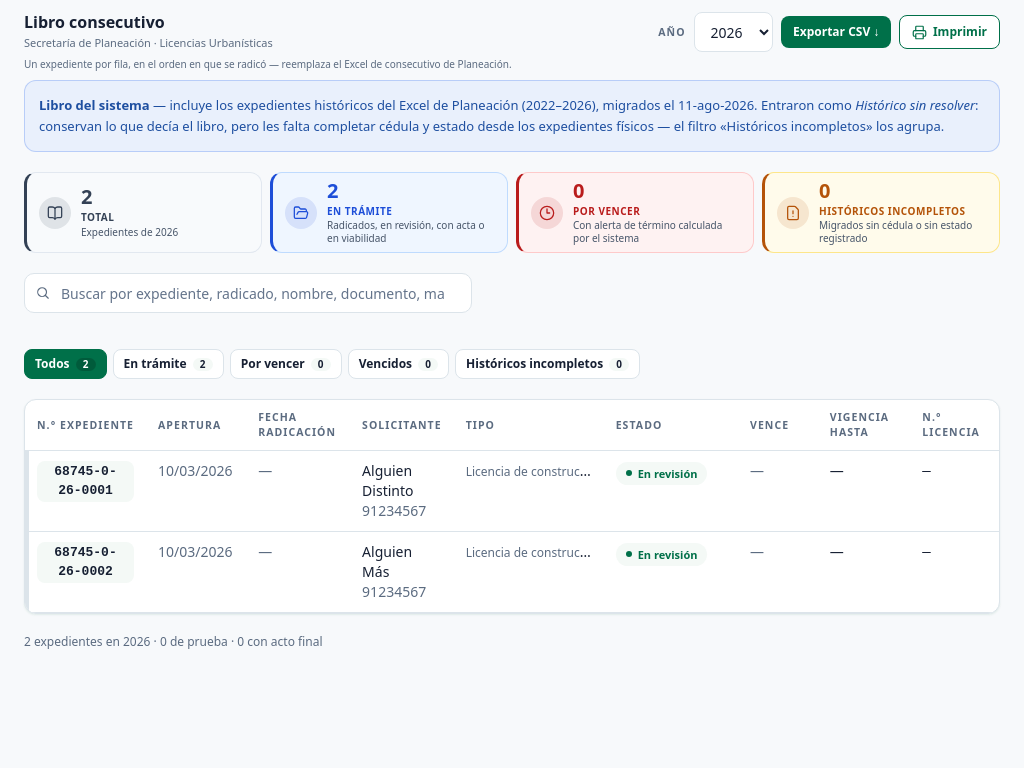
LibroConsecutivoClient › buscador rápido: KPIs y conteos de los chips NO cambian con la búsqueda activa (siguen reflejando el año completo)
This screenshot has width=1024, height=768.
Select "2026" in the dropdown named "Año del libro consecutivo": [733, 32] box [694,12,773,52]
Expected: the 1st text "2" is shown, [81,183,92,210]
Replace the text in the search field named "Buscar en el libro consecutivo por expediente, radicado, solicitante, documento, matrícula inmobiliaria, tipo o estado" with "Distinto": [248, 293] box [24,273,472,313]
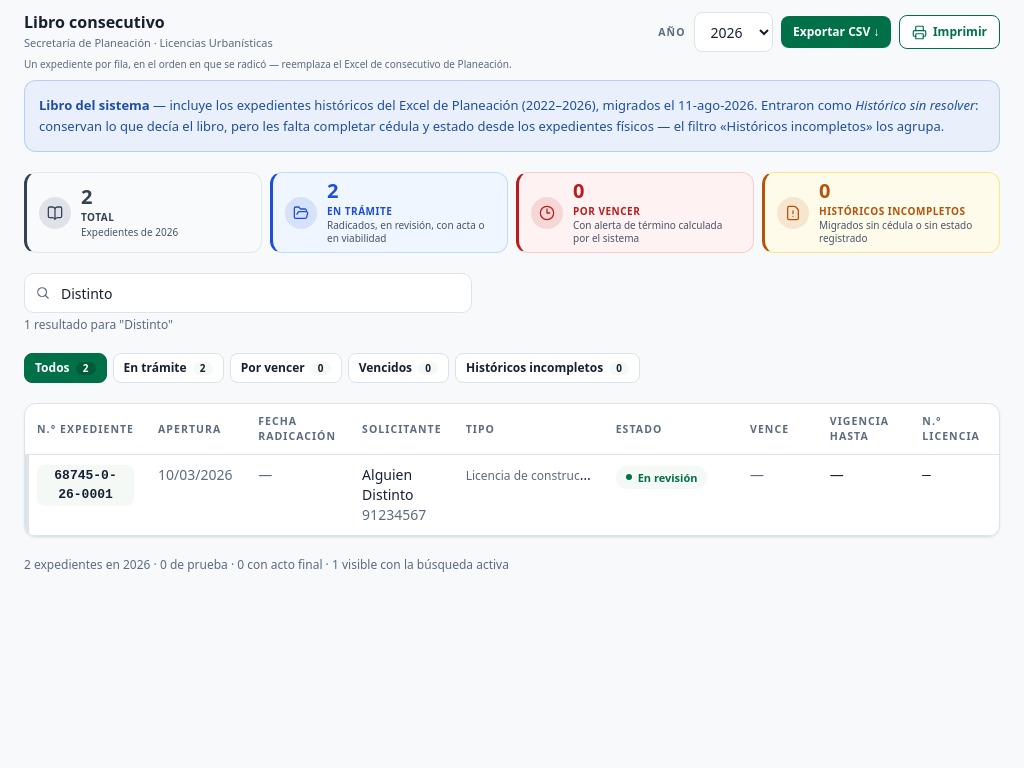
Expected: the 1st text "2" is shown, [81,183,92,210]
Now the button "68745-0-26-0002" is gone
